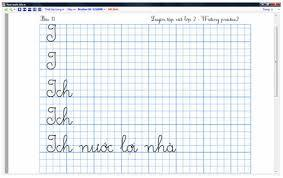text: (45, 134, 176, 154), (150, 14, 240, 24), (46, 78, 74, 98), (46, 106, 74, 126), (45, 23, 57, 43), (46, 51, 57, 71), (39, 15, 55, 22)
